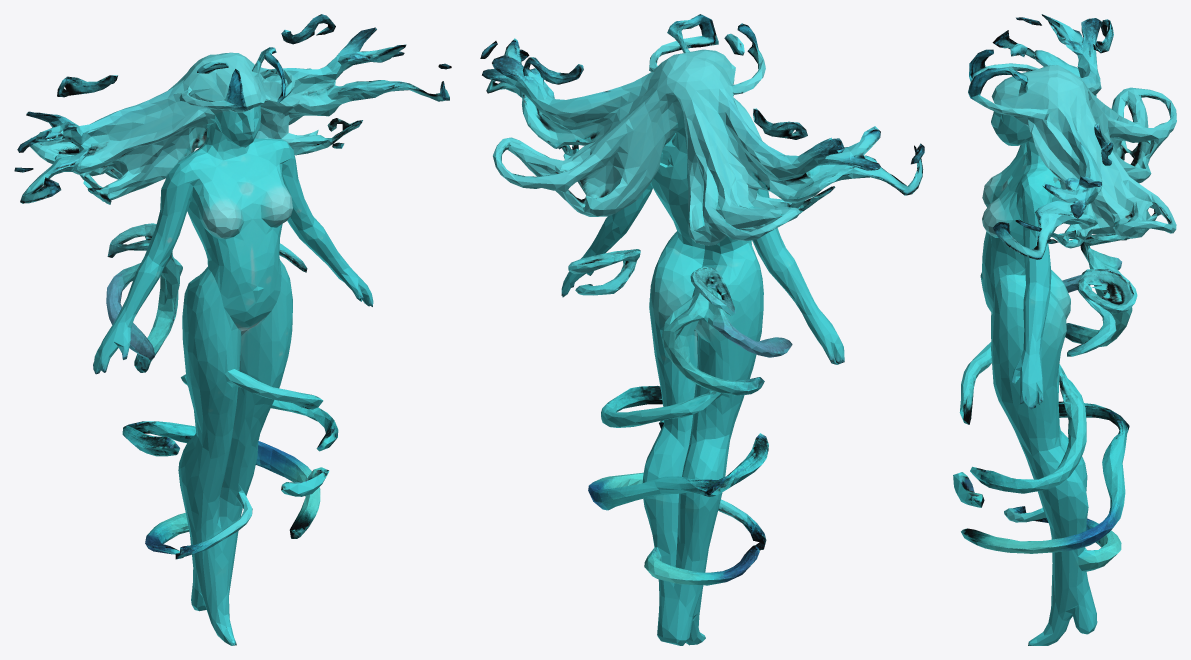
Rendered from spirit-of-the-koppie.glb.
3 renders of one model, left to right at view 1: azimuth 30°, elevation 25°; view 2: azimuth 150°, elevation 25°; view 3: azimuth 270°, elevation 25°, orthographic. The views are drawn at different scales.
Visible parts, largest first — view 1: world; view 2: world; view 3: world.
Boxes of the visible parts, x1,y1,x2,y2 form: world: [14, 14, 451, 645]; world: [480, 14, 924, 645]; world: [953, 14, 1176, 645].
Bounding box in the file's own units: 0.7586 × 1 × 0.3448.
1 material, 1 textured.
